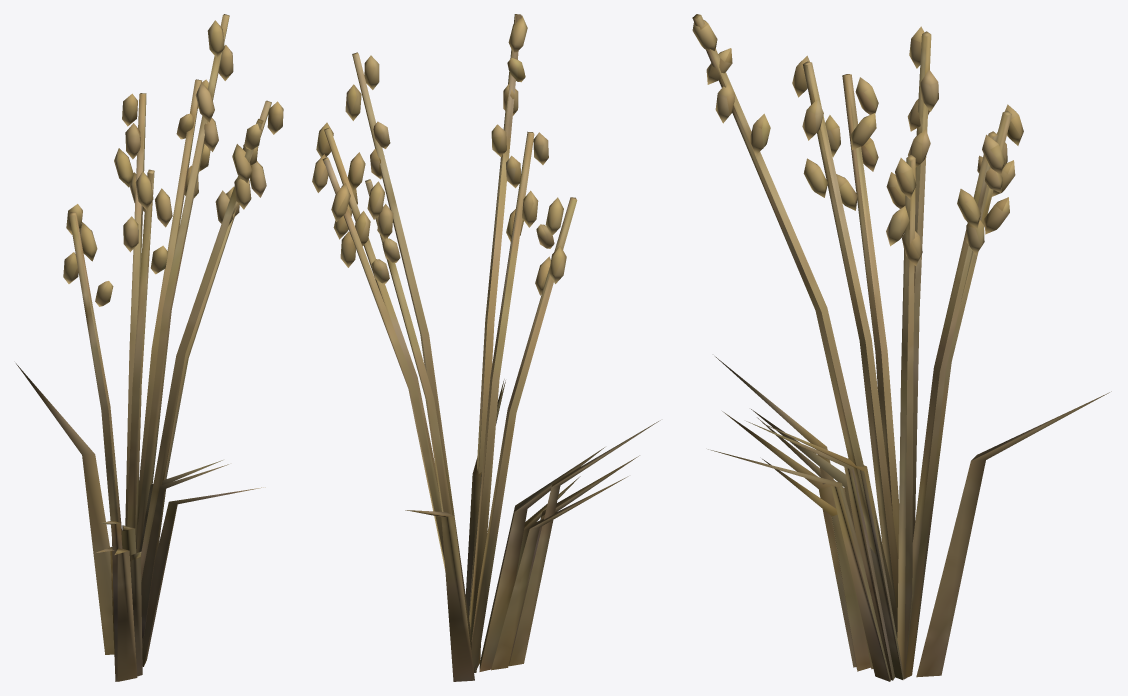
File: grass_seed.glb
3 views of the same model, side by side, from view 1: azimuth 30°, elevation 25°; view 2: azimuth 150°, elevation 25°; view 3: azimuth 270°, elevation 25° (orthographic). The views are drawn at different scales.
Parts seen in each view (by area): view 1: grass_seed; view 2: grass_seed; view 3: grass_seed.
Part boxes in pixels (left/top/right/bottom): grass_seed: left=16, top=14, right=283, bottom=681; grass_seed: left=312, top=14, right=660, bottom=681; grass_seed: left=692, top=14, right=1111, bottom=681.
Size of the model in its own units: 0.3753 by 0.8177 by 0.4437.
1 material, 1 textured.
